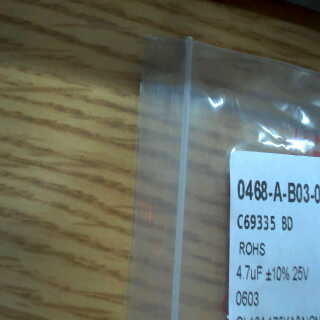4.7uF: (233, 261, 265, 283)
